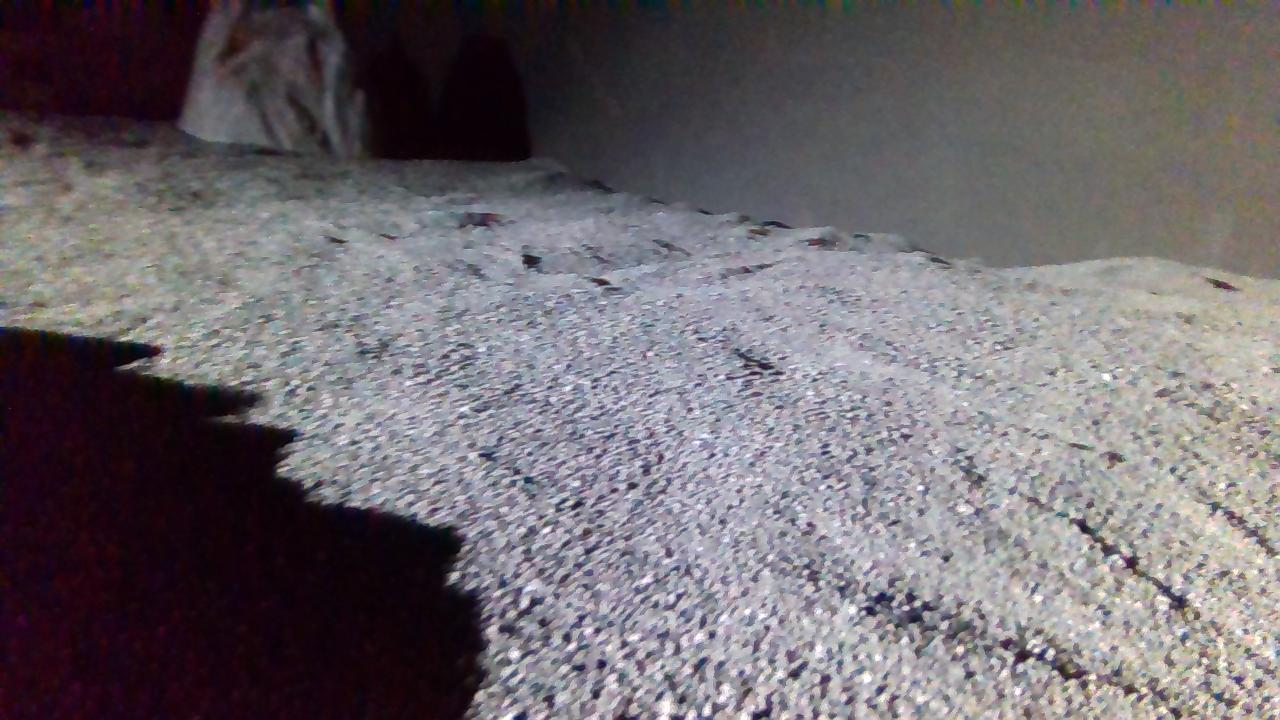rock: (178, 0, 364, 156)
